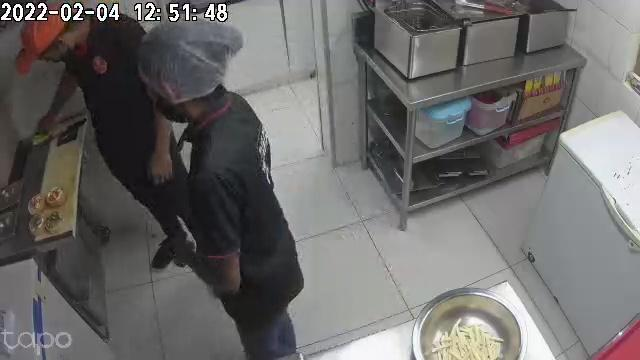no_gloves: (148, 140, 174, 188)
